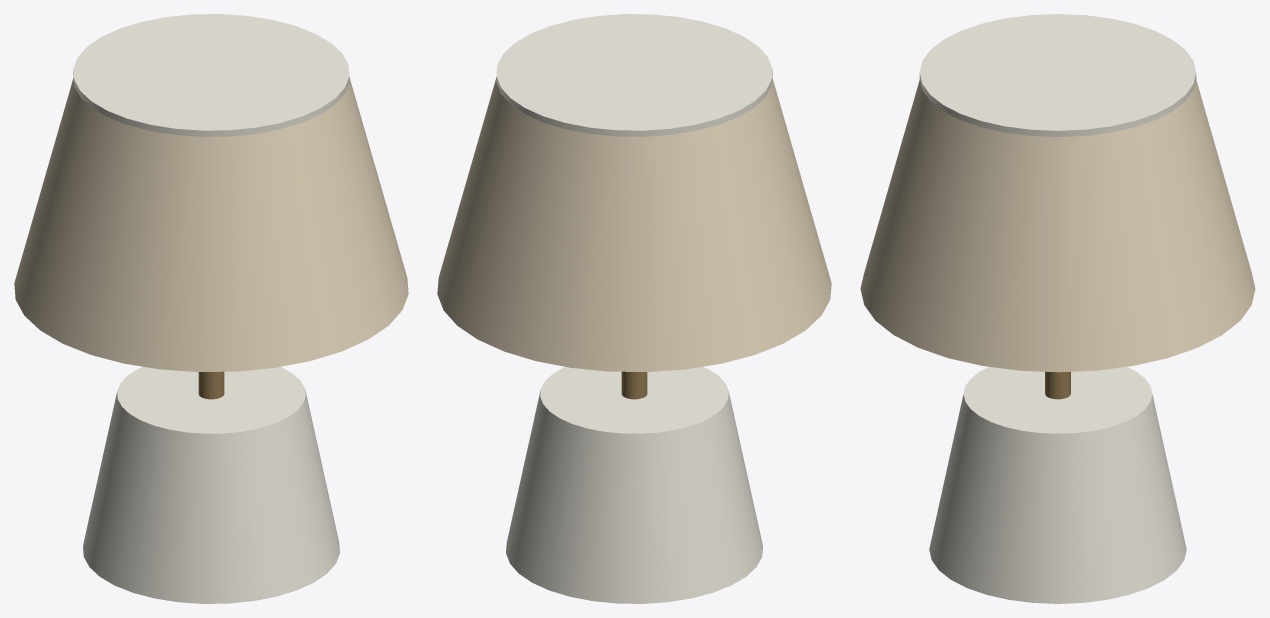
The model's file is lamp.glb.
3 views of the same model, side by side, from view 1: azimuth 30°, elevation 25°; view 2: azimuth 150°, elevation 25°; view 3: azimuth 270°, elevation 25° (orthographic).
Visible parts, largest first — view 1: Linen lampshade, Ceramic base, Shade cap, Brass stem; view 2: Linen lampshade, Ceramic base, Shade cap, Brass stem; view 3: Linen lampshade, Ceramic base, Shade cap, Brass stem.
Part boxes in pixels (x1=…): Linen lampshade: x1=14, y1=78, x2=408, y2=371; Ceramic base: x1=83, y1=366, x2=339, y2=603; Shade cap: x1=73, y1=14, x2=349, y2=136; Brass stem: x1=198, y1=371, x2=224, y2=399; Linen lampshade: x1=437, y1=78, x2=831, y2=371; Ceramic base: x1=506, y1=366, x2=762, y2=603; Shade cap: x1=496, y1=14, x2=772, y2=136; Brass stem: x1=621, y1=371, x2=647, y2=399; Linen lampshade: x1=860, y1=79, x2=1255, y2=372; Ceramic base: x1=929, y1=367, x2=1186, y2=603; Shade cap: x1=919, y1=14, x2=1196, y2=136; Brass stem: x1=1045, y1=371, x2=1070, y2=399.
Bounding box in the file's own units: 0.46 × 0.613 × 0.46.
